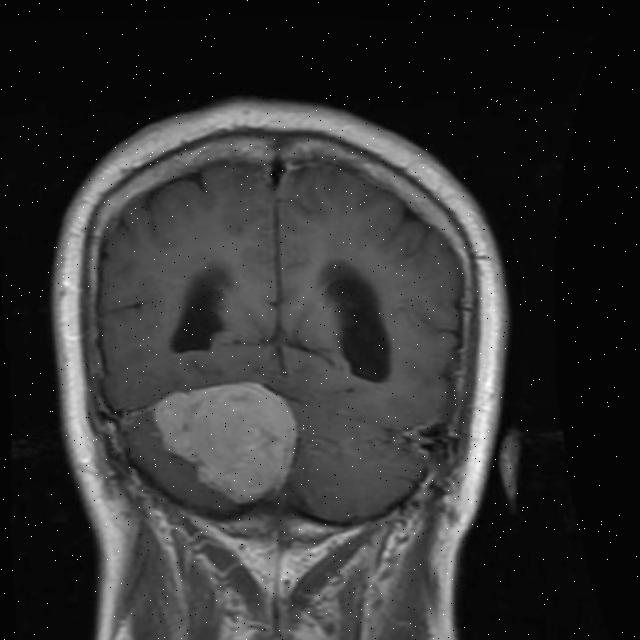Meningioma: (153, 372, 304, 511)
